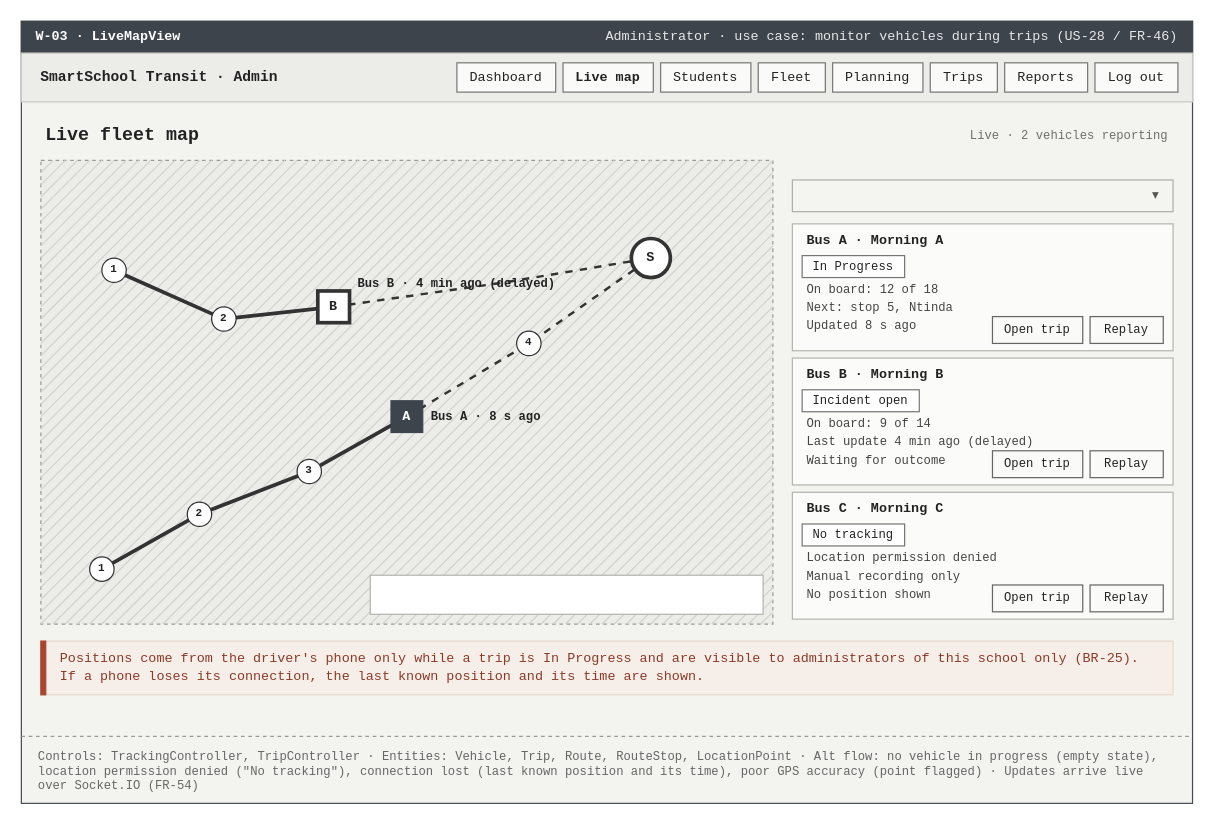
Image size: 1215x825. Some labels were removed from this diagram. Each missing label, with the box of its shape:
All vehicles: (791, 179, 1173, 212)
solid: driven · dashed: planned · ○ stop · S school: (369, 574, 763, 614)
